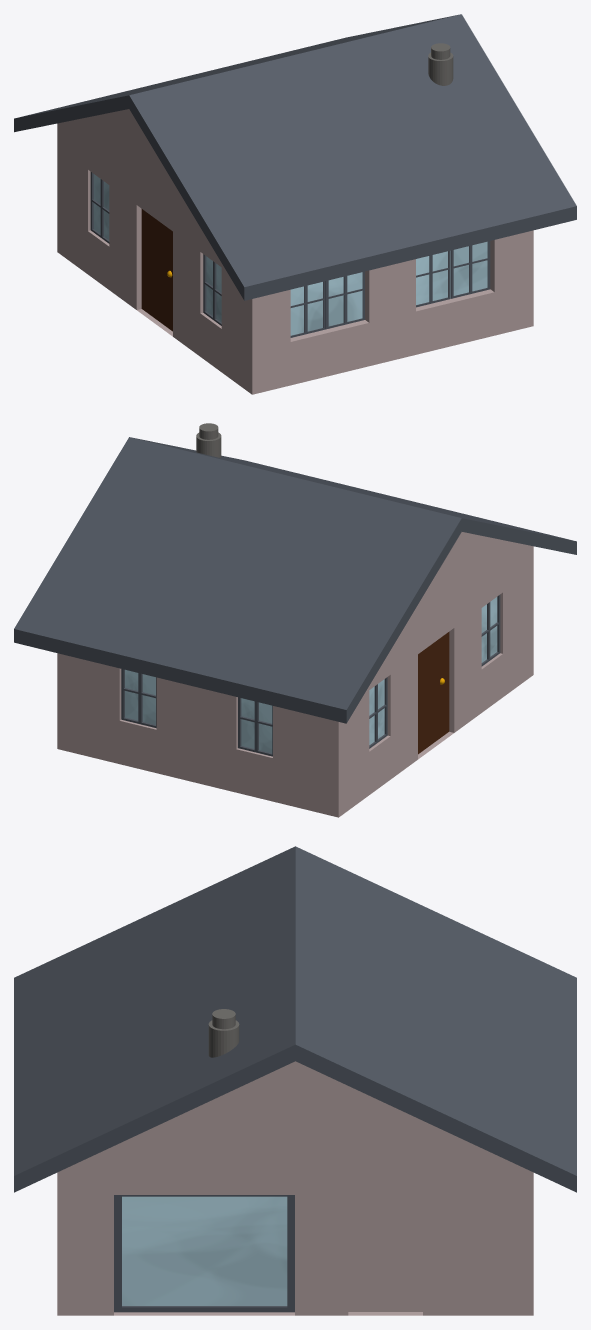
Rendered from TPCS_House_001_V1.fbx.
3 views of the same model, one above another, from view 1: azimuth 30°, elevation 25°; view 2: azimuth 150°, elevation 25°; view 3: azimuth 270°, elevation 25° (orthographic). The views are drawn at different scales.
Parts seen in each view (by area): view 1: Cube.082; view 2: Cube.082; view 3: Cube.082.
Part boxes in pixels (x1,y1,x2,y2): Cube.082: (14, 14, 576, 394); Cube.082: (14, 423, 576, 817); Cube.082: (14, 846, 576, 1315).
Bounding box in the file's own units: 591 × 399 × 709.
